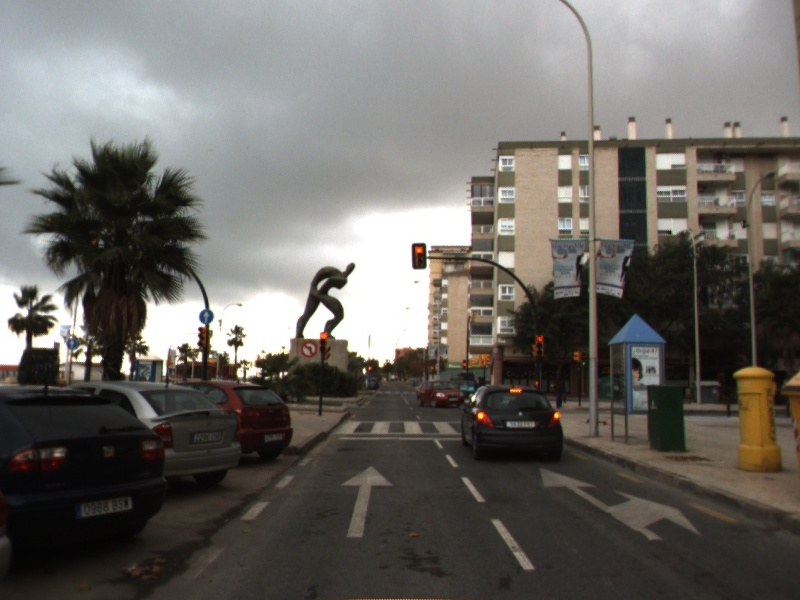STRAIGHT: (339, 463, 396, 539)
STRAIGHT_RIGHT: (538, 465, 704, 543)
